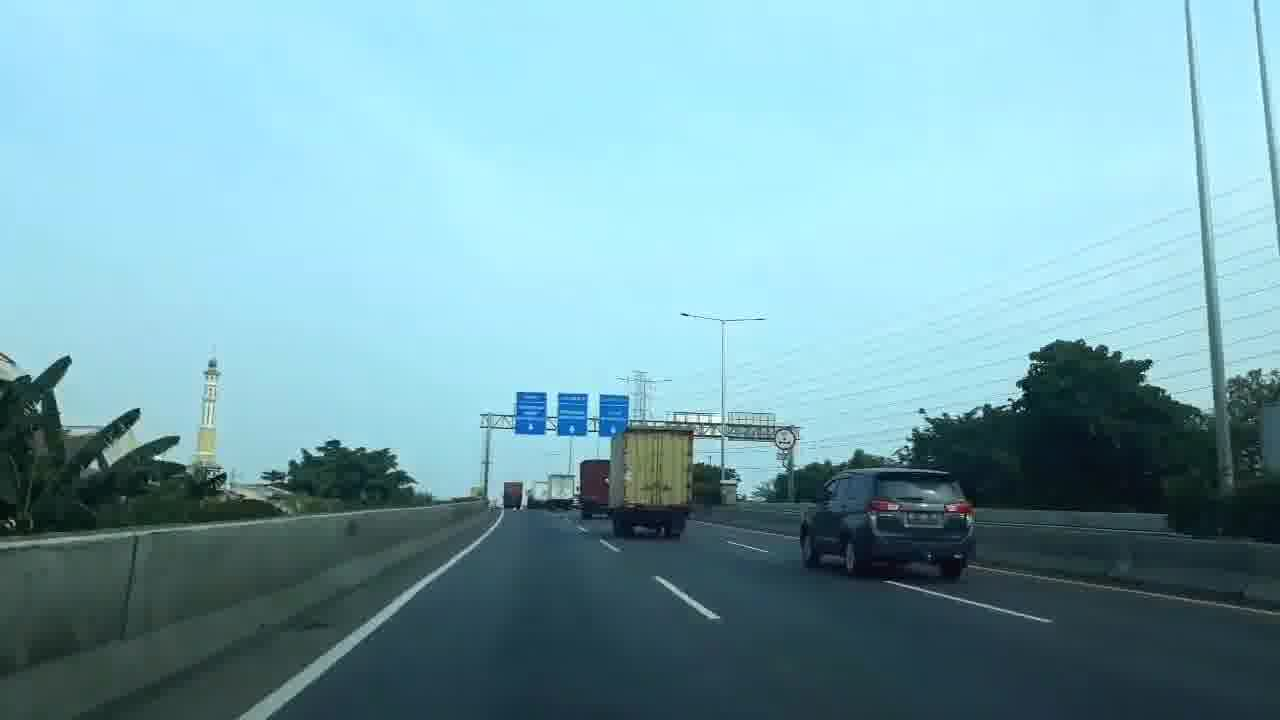plate_positive: (907, 511, 938, 524)
